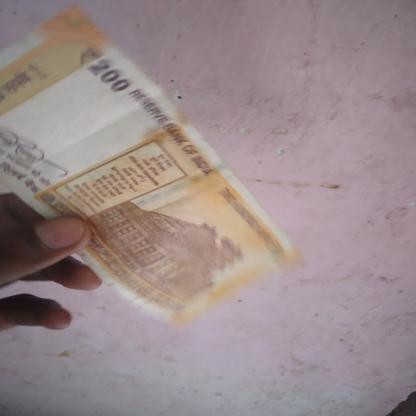New200Back: (0, 2, 277, 318)
